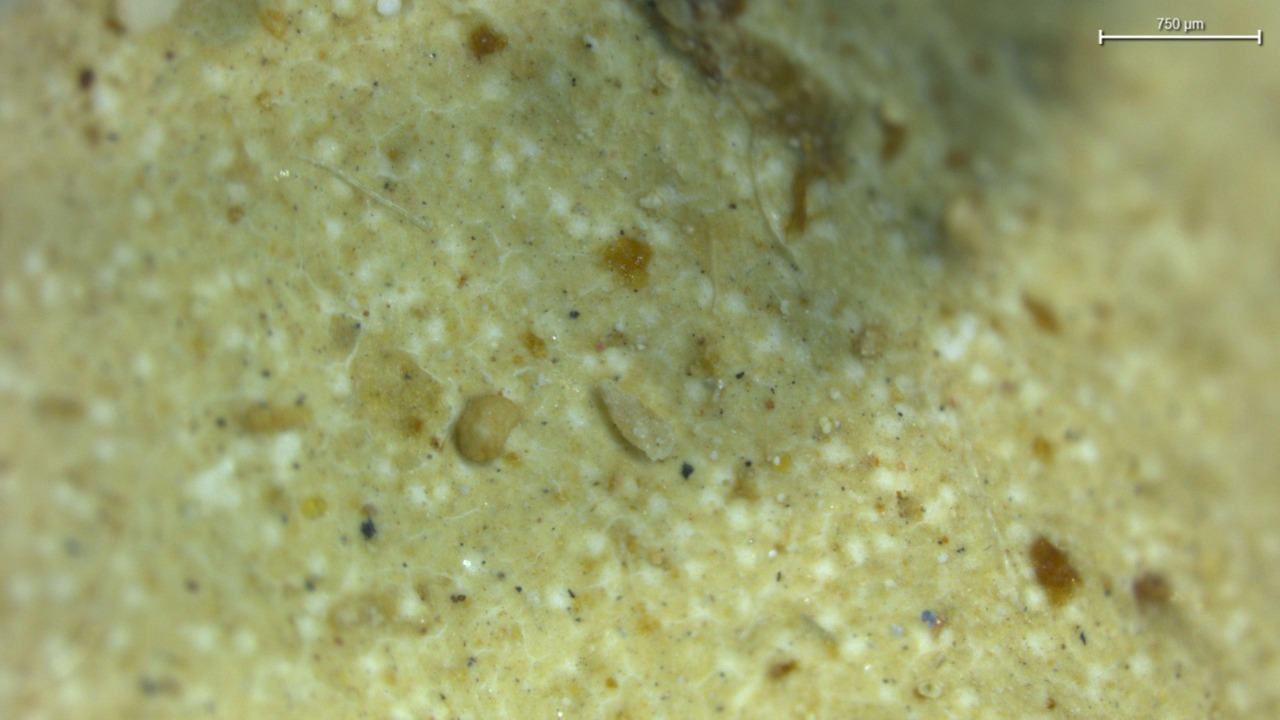microplastic_fragment: (599, 379, 679, 463), (454, 393, 525, 464)
